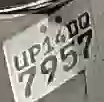1: (42, 34, 54, 56)
4: (54, 26, 66, 46)
5: (59, 39, 78, 73)
7: (18, 62, 35, 100), (77, 28, 94, 64)
9: (41, 54, 57, 86)
D: (66, 20, 79, 37)
P: (26, 43, 42, 62)
Q: (78, 11, 92, 29)
U: (14, 51, 29, 71)
